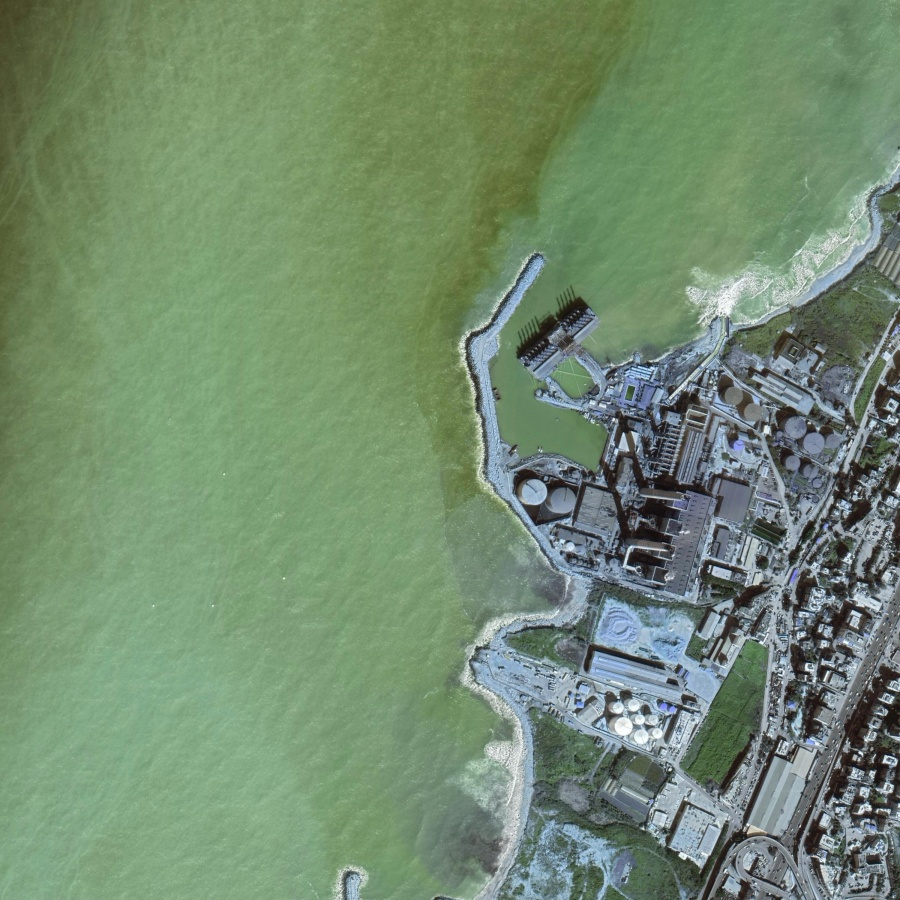PowerPlant: (505, 311, 850, 742)
